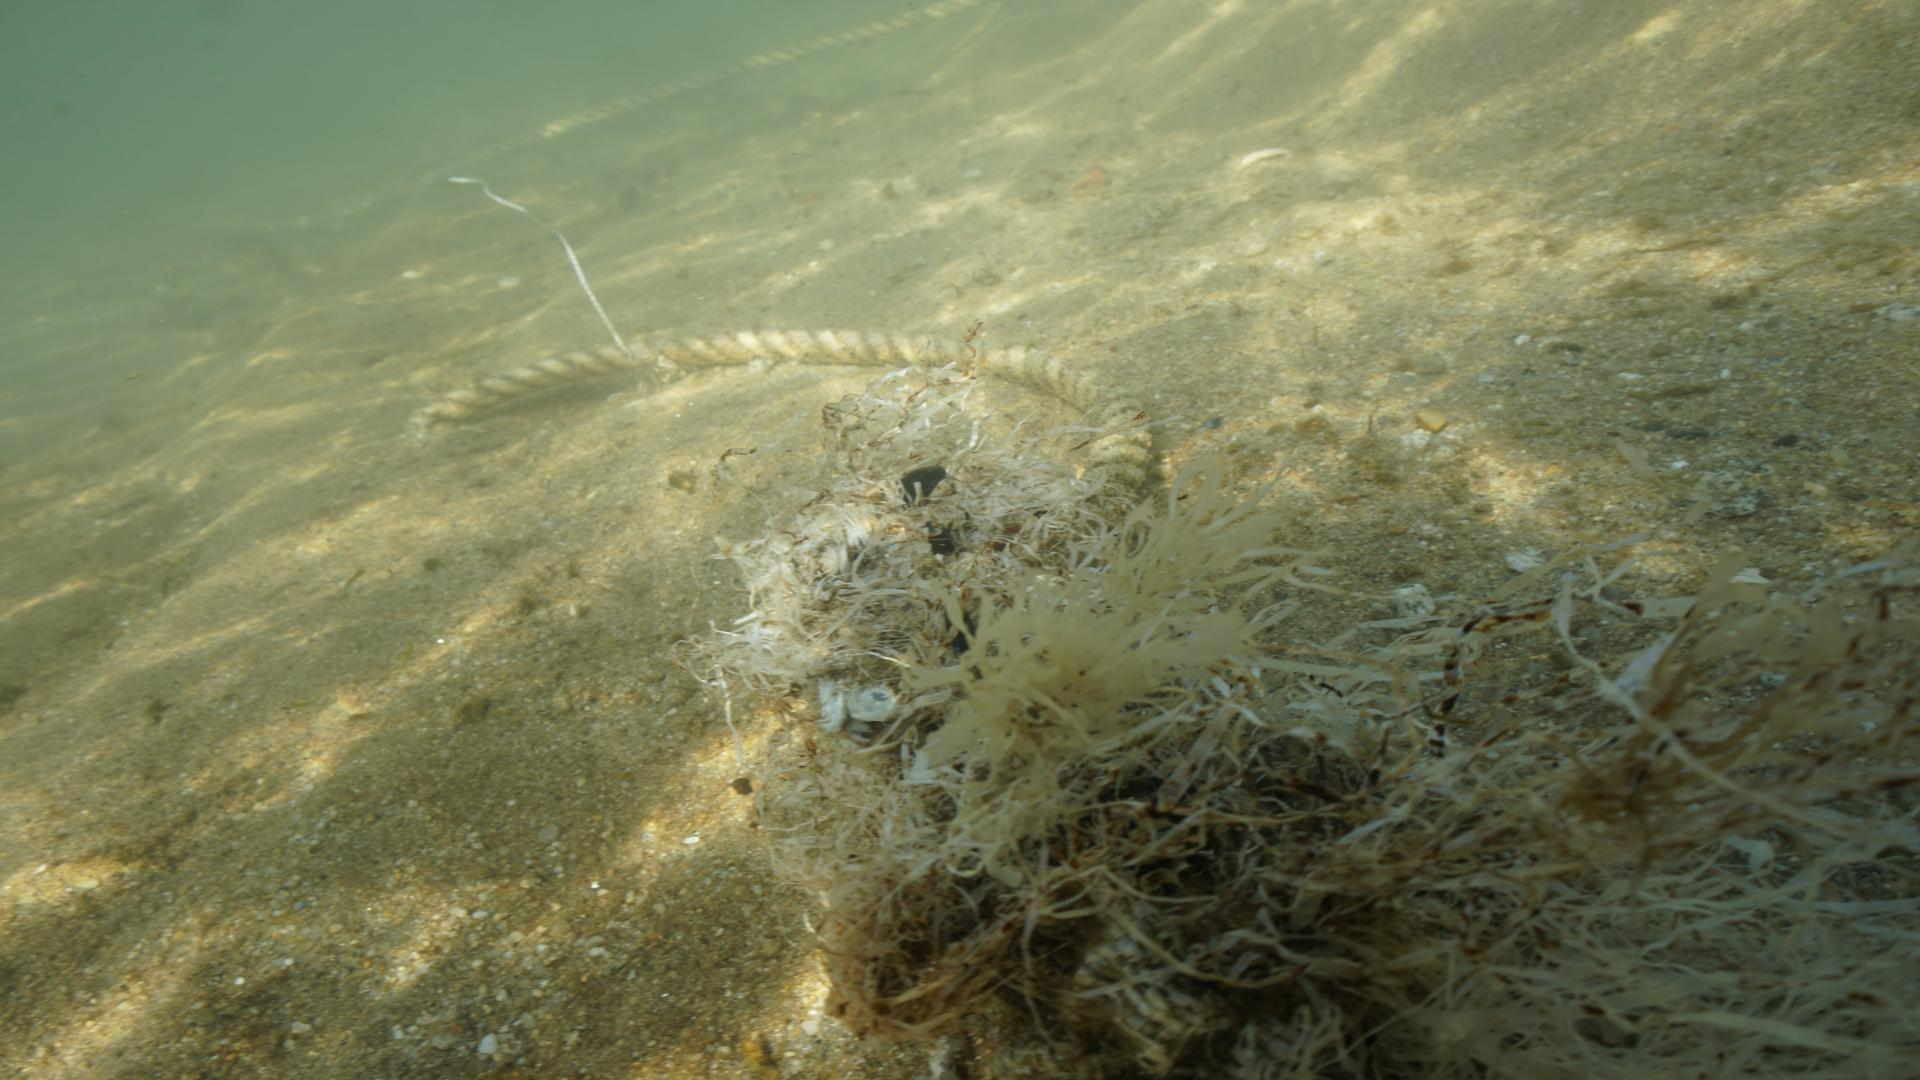bundle of ropes: (410, 324, 1159, 538)
